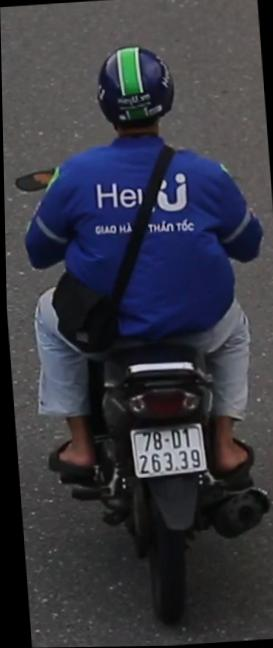LP: (124, 415, 206, 482)
helmet: (88, 37, 181, 155)
